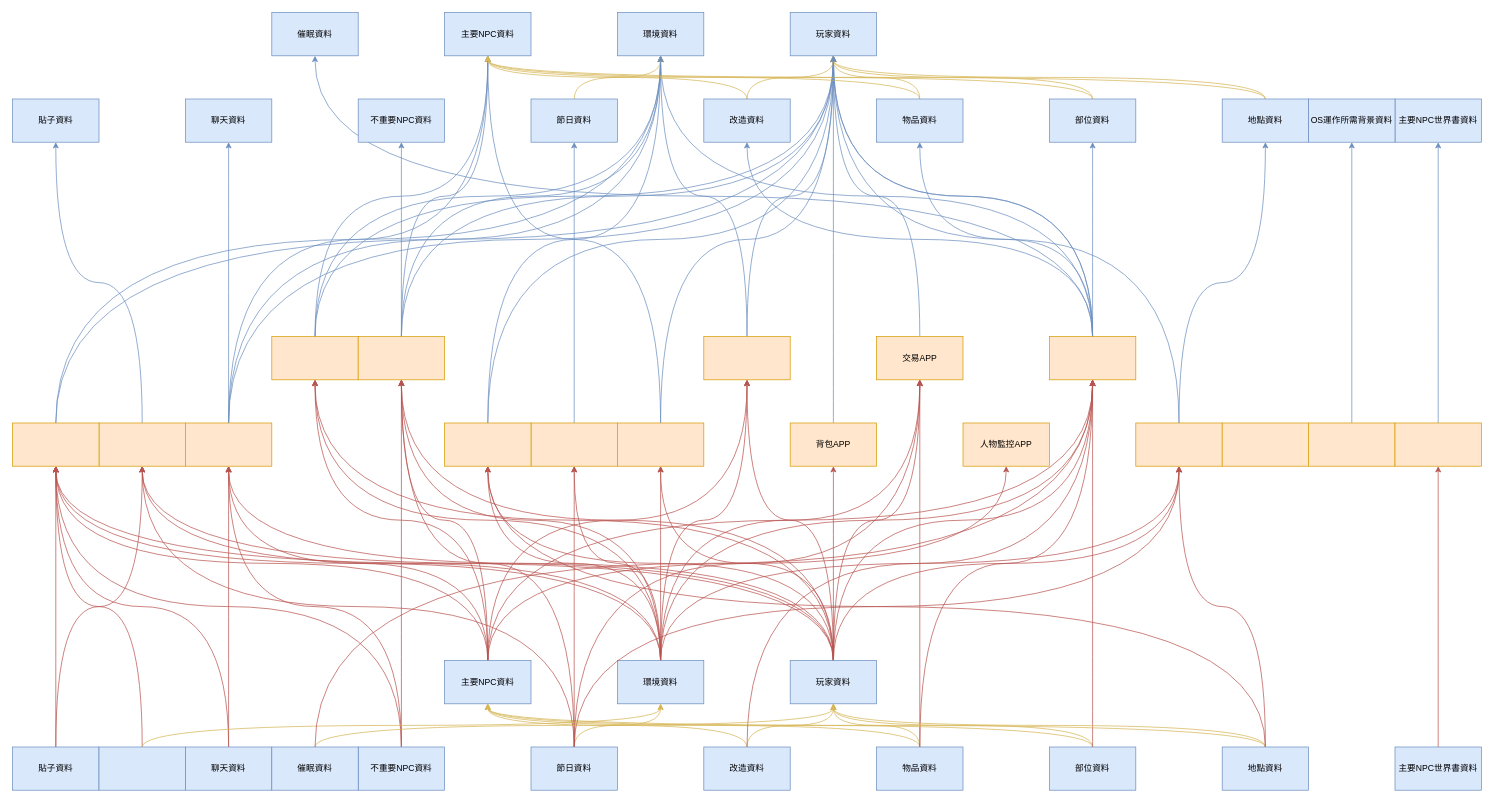
This 1494x803 diagram has some shape labels left out. Here are the shapes that lost their labels. From the top down, the centre of each, then its label:
At (x=314, y=358): "身體改造APP".
At (x=401, y=358): "妓院APP".
At (x=746, y=358): "製作APP".
At (x=1092, y=358): "研發APP".
At (x=55, y=444): "成就APP".
At (x=141, y=444): "匿名板APP".
At (x=228, y=444): "聊天APP".
At (x=487, y=444): "地圖APP".
At (x=573, y=444): "日曆APP".
At (x=660, y=444): "催眠APP".
At (x=1178, y=444): "購屋APP".
At (x=1265, y=444): "說明APP".
At (x=1351, y=444): "設定APP".
At (x=1437, y=444): "NPC背景編輯APP".
At (x=141, y=768): "成就資料".
